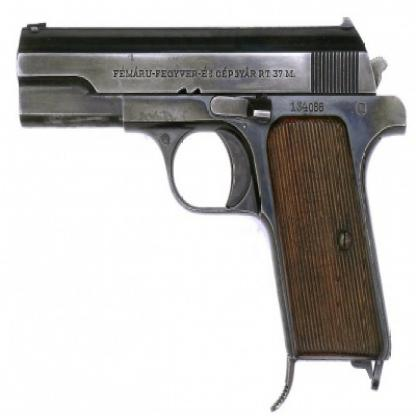Guns: (13, 14, 406, 415)
